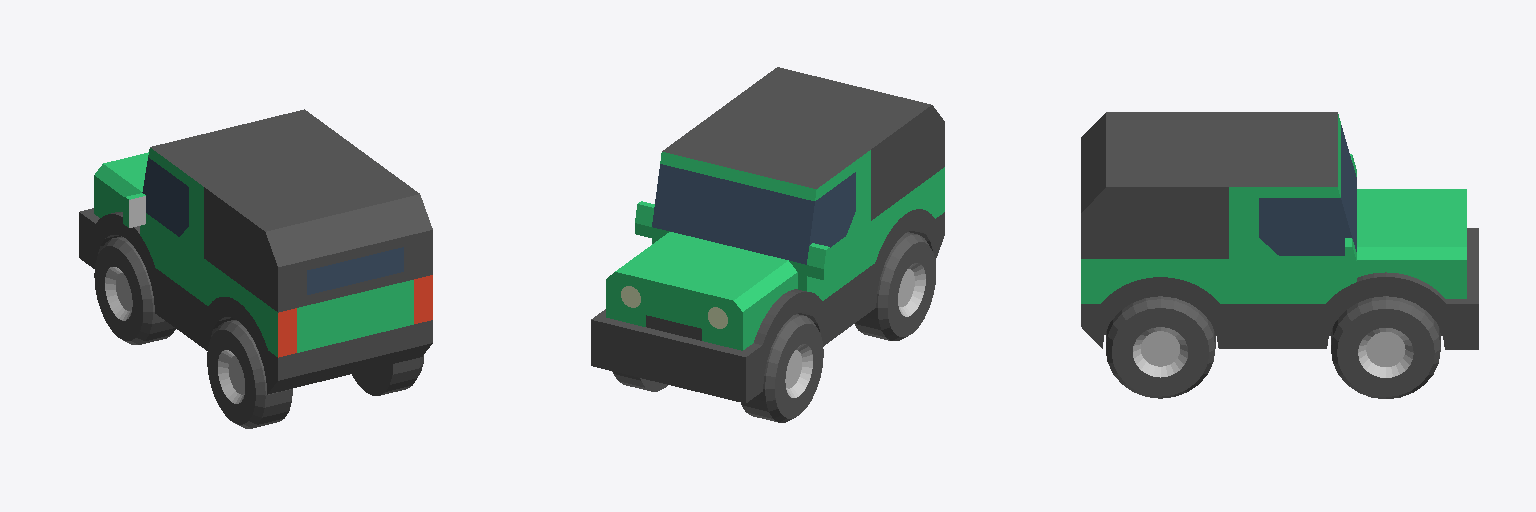
Rendered from carJeep.obj.
3 views of the same model, side by side, from view 1: azimuth 30°, elevation 25°; view 2: azimuth 150°, elevation 25°; view 3: azimuth 270°, elevation 25° (orthographic).
Visible parts, largest first — view 1: body 4, wheelBackLeft 4, wheelFrontLeft 4, wheelBackRight 4; view 2: body 4, wheelBackLeft 4, wheelFrontLeft 4; view 3: body 4, wheelFrontRight 4, wheelBackRight 4.
Boxes of the visible parts, box(x1,y1,x2,y2) form: body 4: box(79, 109, 432, 394); wheelBackLeft 4: box(207, 320, 292, 428); wheelFrontLeft 4: box(94, 236, 175, 344); wheelBackRight 4: box(352, 355, 423, 395); body 4: box(591, 67, 944, 403); wheelBackLeft 4: box(855, 232, 935, 340); wheelFrontLeft 4: box(741, 314, 823, 422); body 4: box(1081, 112, 1478, 349); wheelFrontRight 4: box(1331, 296, 1440, 398); wheelBackRight 4: box(1106, 296, 1215, 398).
Bounding box in the file's own units: 8.88 × 9.58 × 16.21.